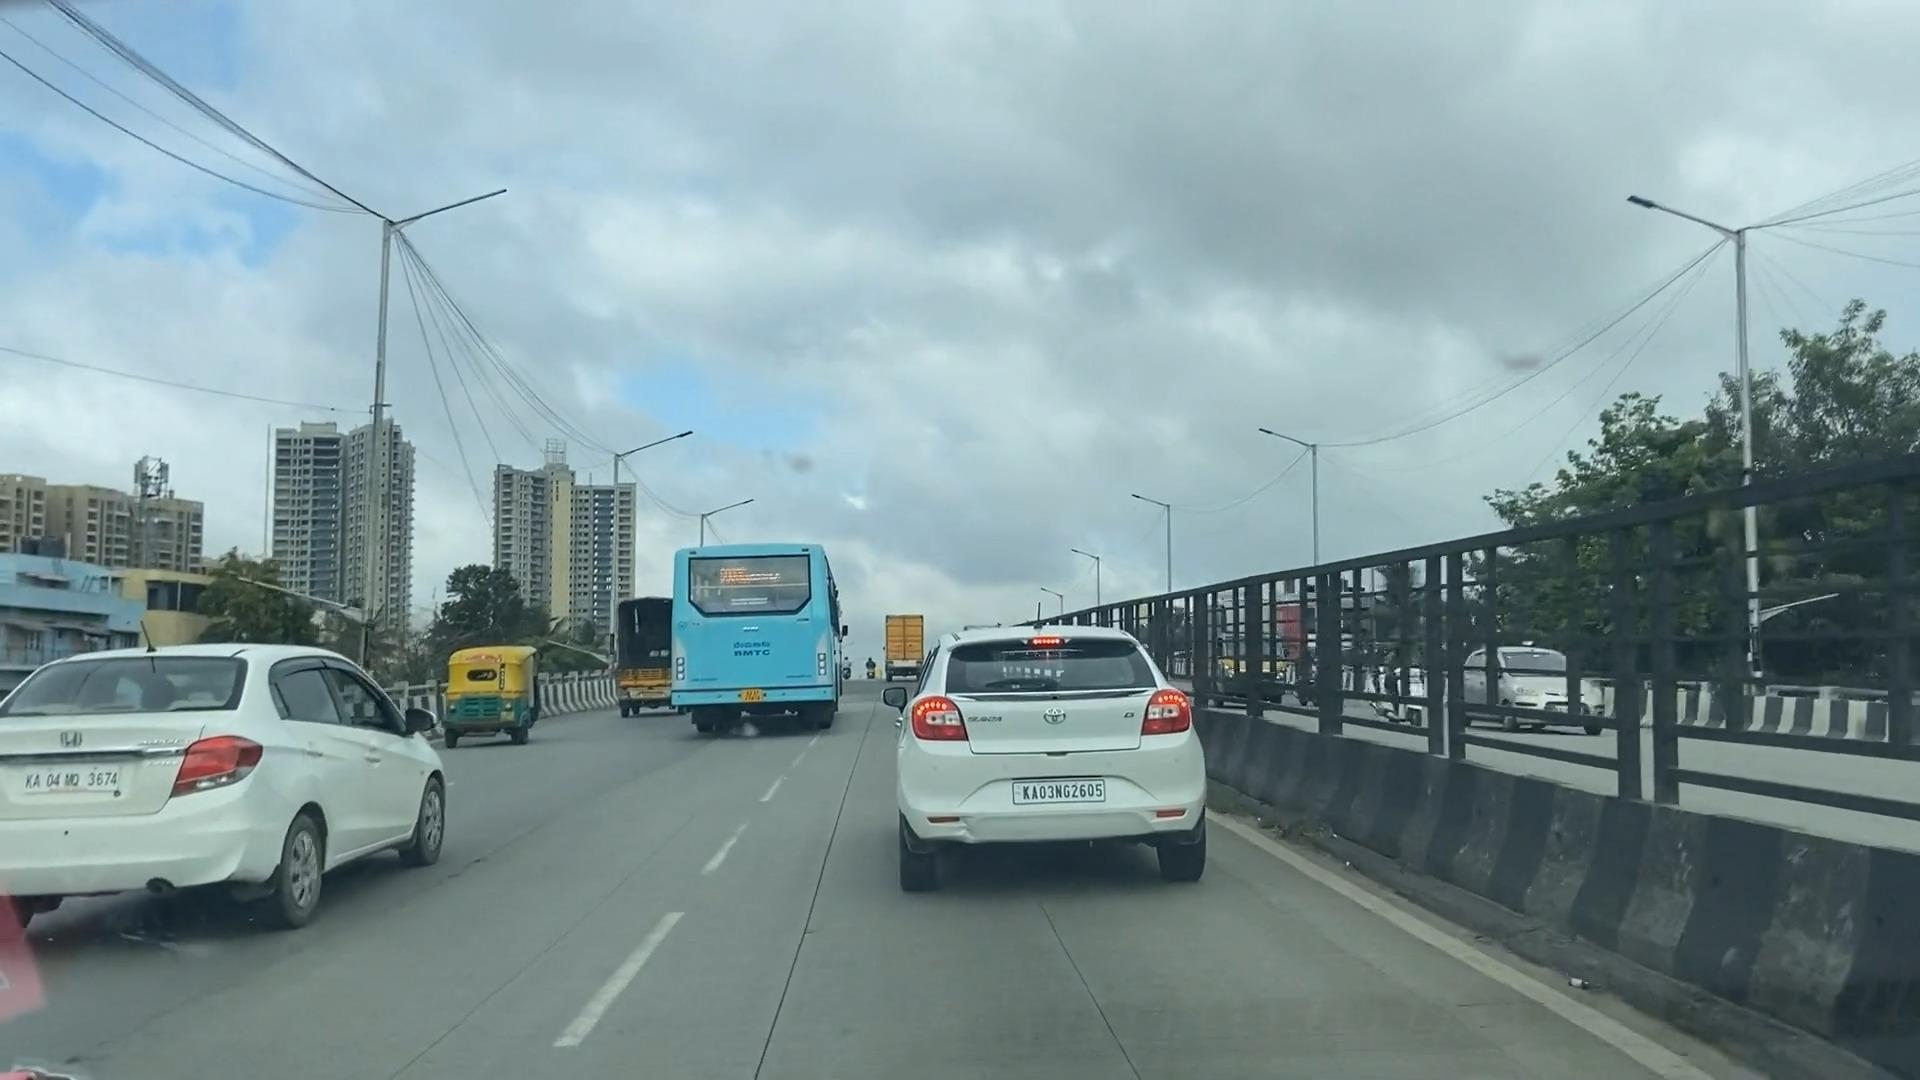HMV: (663, 524, 845, 752), (612, 583, 703, 731), (870, 584, 928, 691)
LMV: (0, 589, 484, 942), (862, 616, 1265, 911), (425, 616, 572, 760)
